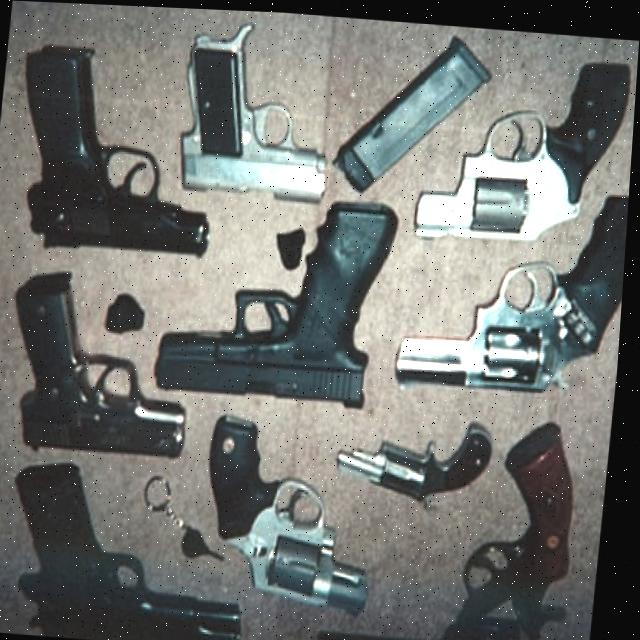pistol: (321, 397, 596, 640), (158, 181, 404, 403), (394, 170, 632, 399), (6, 35, 231, 261), (411, 40, 635, 251), (5, 459, 265, 640), (200, 406, 391, 616), (5, 264, 203, 459), (174, 17, 345, 203), (338, 411, 503, 505)
